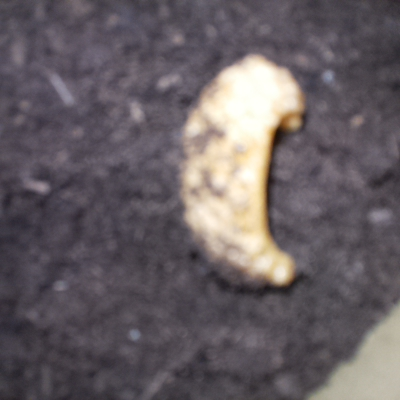eggs: (167, 49, 326, 300)
